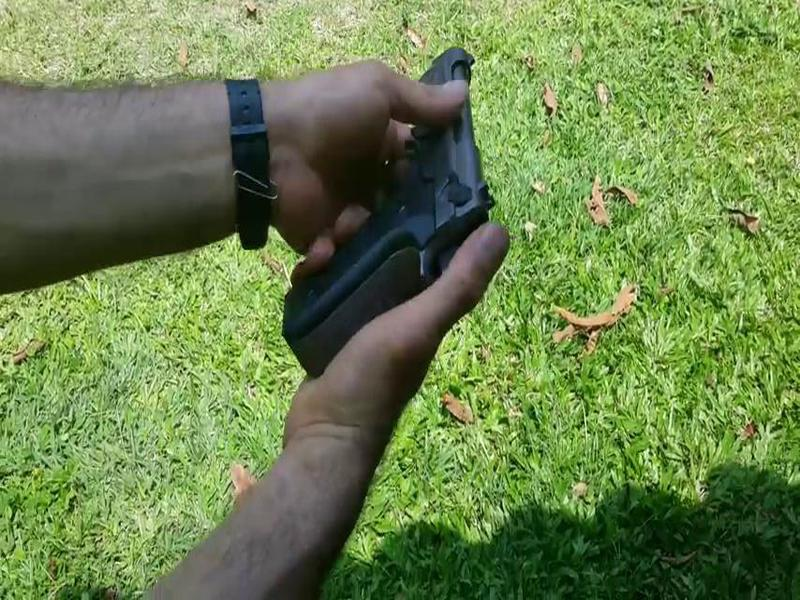Pistola: (254, 42, 493, 381)
